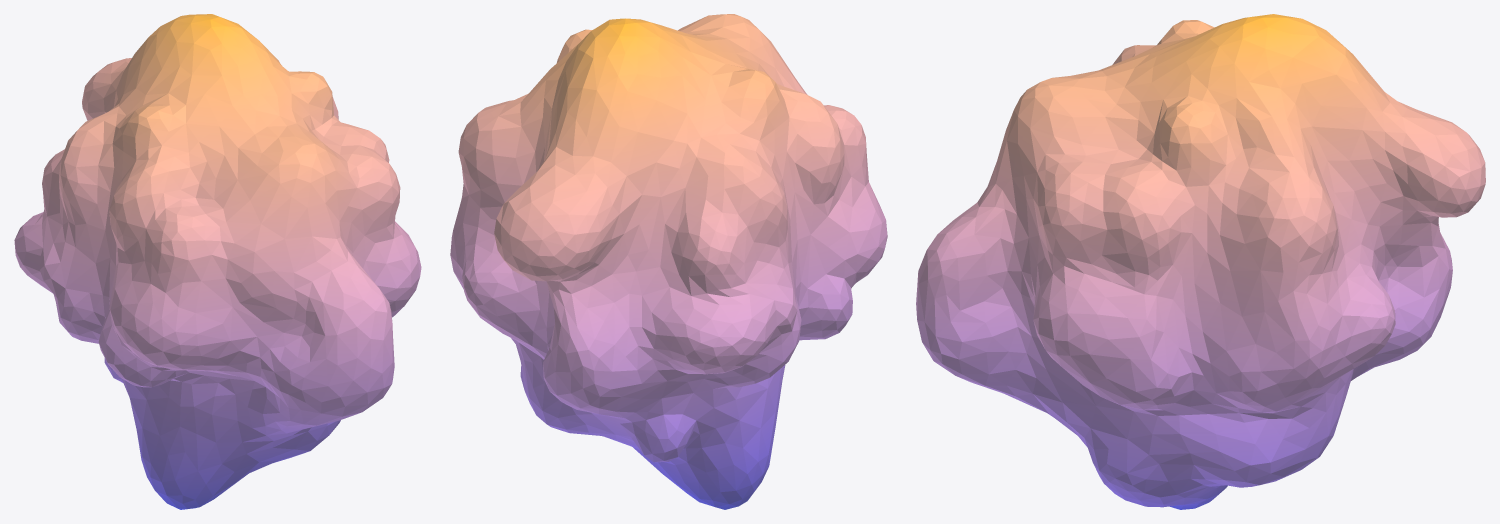
File: 34_cyb_laser_gradient_fish_scales_2922_2026_10_03_0021f2.glb
The picture shows the model from 3 angles, left to right: view 1: azimuth 30°, elevation 25°; view 2: azimuth 150°, elevation 25°; view 3: azimuth 270°, elevation 25°; orthographic projection. The views are drawn at different scales.
Parts seen in each view (by area): view 1: geometry_0; view 2: geometry_0; view 3: geometry_0.
Part boxes in pixels (box(x1,y1,x2,y2)): geometry_0: box(14, 14, 421, 509); geometry_0: box(450, 14, 887, 509); geometry_0: box(916, 14, 1485, 509).
Size of the model in its own units: 0.6931 by 1 by 0.9956.
